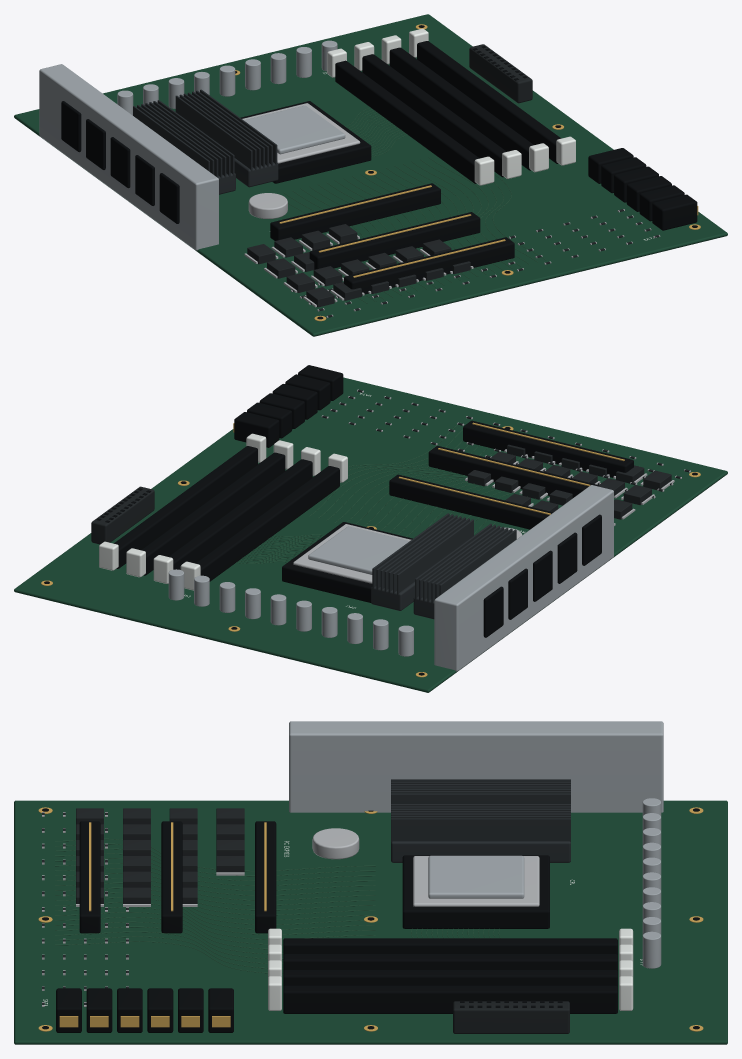
Rendered from motherboard.f8b68e6fd80f.glb.
The picture shows the model from 3 angles, top to bottom: view 1: azimuth 30°, elevation 25°; view 2: azimuth 150°, elevation 25°; view 3: azimuth 270°, elevation 25°; orthographic projection. The views are drawn at different scales.
Parts seen in each view (by area): view 1: ATX PCB, MOTHERBOARD / Dark cavity interior, MOTHERBOARD / Satin aluminium, MOTHERBOARD / Fine moulded ABS, MOTHERBOARD / Charcoal powder coated steel, MOTHERBOARD / Printed warm white, MOTHERBOARD / Nickel plated fasteners, MOTHERBOARD / Copper under solder mask, MOTHERBOARD / Gold plated connector contacts; view 2: ATX PCB, MOTHERBOARD / Dark cavity interior, MOTHERBOARD / Satin aluminium, MOTHERBOARD / Charcoal powder coated steel, MOTHERBOARD / Fine moulded ABS, MOTHERBOARD / Printed warm white, MOTHERBOARD / Copper under solder mask, MOTHERBOARD / Nickel plated fasteners, MOTHERBOARD / Gold plated connector contacts; view 3: ATX PCB, MOTHERBOARD / Dark cavity interior, MOTHERBOARD / Satin aluminium, MOTHERBOARD / Charcoal powder coated steel, MOTHERBOARD / Fine moulded ABS, MOTHERBOARD / Copper under solder mask, MOTHERBOARD / Nickel plated fasteners, MOTHERBOARD / Gold plated connector contacts, MOTHERBOARD / Printed warm white.
Part boxes in pixels (x1,y1,x2,y2): ATX PCB: (14, 14, 727, 336); MOTHERBOARD / Dark cavity interior: (61, 25, 697, 319); MOTHERBOARD / Satin aluminium: (39, 40, 345, 250); MOTHERBOARD / Fine moulded ABS: (247, 44, 659, 317); MOTHERBOARD / Charcoal powder coated steel: (133, 89, 278, 194); MOTHERBOARD / Printed warm white: (323, 28, 656, 240); MOTHERBOARD / Nickel plated fasteners: (242, 103, 660, 317); MOTHERBOARD / Copper under solder mask: (284, 107, 545, 303); MOTHERBOARD / Gold plated connector contacts: (235, 24, 700, 321); ATX PCB: (14, 377, 727, 692); MOTHERBOARD / Dark cavity interior: (44, 365, 697, 675); MOTHERBOARD / Satin aluminium: (168, 485, 613, 671); MOTHERBOARD / Charcoal powder coated steel: (371, 513, 516, 619); MOTHERBOARD / Fine moulded ABS: (91, 389, 689, 544); MOTHERBOARD / Printed warm white: (99, 392, 525, 608); MOTHERBOARD / Copper under solder mask: (236, 422, 639, 563); MOTHERBOARD / Nickel plated fasteners: (293, 389, 690, 583); MOTHERBOARD / Gold plated connector contacts: (41, 422, 700, 677); ATX PCB: (14, 800, 727, 1044); MOTHERBOARD / Dark cavity interior: (42, 808, 699, 1032); MOTHERBOARD / Satin aluminium: (289, 721, 663, 968); MOTHERBOARD / Charcoal powder coated steel: (391, 779, 570, 862); MOTHERBOARD / Fine moulded ABS: (42, 808, 569, 1033); MOTHERBOARD / Copper under solder mask: (55, 838, 500, 973); MOTHERBOARD / Nickel plated fasteners: (42, 812, 539, 1006); MOTHERBOARD / Gold plated connector contacts: (38, 807, 703, 1031); MOTHERBOARD / Printed warm white: (43, 841, 642, 1010).
Bounding box in the file's own units: 0.247 × 0.039 × 0.305.
